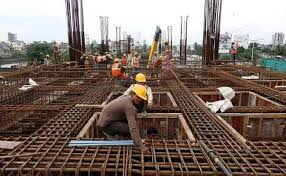hard hat: (135, 73, 148, 81)
safe person: (98, 83, 165, 148), (112, 58, 123, 76), (132, 52, 141, 68)
